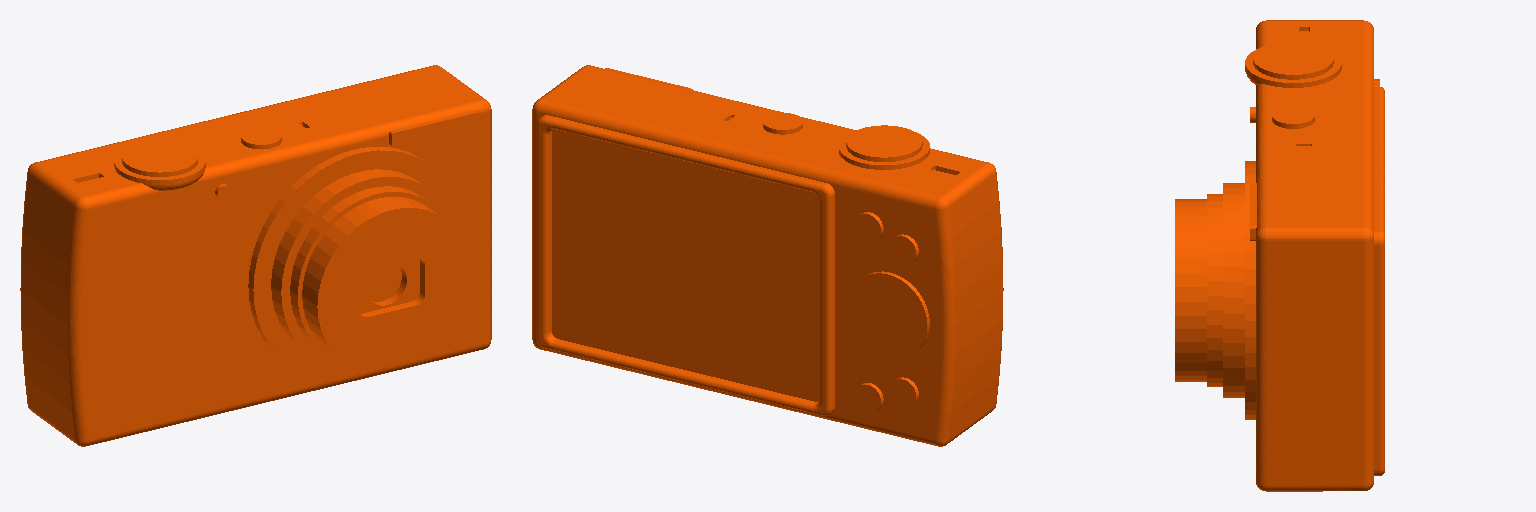
The robot description file, URDF, robot "camera":
<?xml version="1.0" ?>
<robot name="camera">
   <material name="obj_color">
      <color rgba="1.0 0.423529411765 0.0392156862745 1.0"/>
   </material>
   <link name="top">
      <inertial>
         <origin rpy="0.0001932896790447787 0.0005032142569991699 0.0006040671366574025" xyz="0.002662219039778185 0.005287141236461879 -0.001063677143379708"/>
         <mass value="0.4498486265932388"/>
         <inertia ixx="0.00019425525525257" ixy="1.982782546587925e-05" ixz="1.405211004337183e-06" iyy="0.0006031068332749693" iyz="2.46181992297482e-07" izz="0.0005032089841738115"/>
      </inertial>
      <visual>
         <origin rpy="0 0 0" xyz="0 0 0"/>
         <geometry>
            <mesh filename="top_watertight_tiny.stl" scale="1 1 1"/>
         </geometry>
         <material name="obj_color"/>
      </visual>
      <collision>
         <origin rpy="0 0 0" xyz="0 0 0"/>
         <geometry>
            <mesh filename="top_watertight_tiny.obj" scale="1 1 1"/>
         </geometry>
      </collision>
   </link>
   <link name="bottom">
      <inertial>
         <origin rpy="1.633333333194242e-08 1.633333333194243e-08 1.633333333357667e-08" xyz="0.3464080000000008 0.3464080000000008 0.3464080000000008"/>
         <mass value="0.0009800000000000017"/>
         <inertia ixx="1.633333333248717e-08" ixy="5.447480642029219e-19" ixz="5.447480642029219e-19" iyy="1.633333333248717e-08" iyz="5.447480642029219e-19" izz="1.633333333248717e-08"/>
      </inertial>
      <visual>
         <origin rpy="0 0 0" xyz="0 0 0"/>
         <geometry>
            <mesh filename="bottom_watertight_tiny.stl" scale="1 1 1"/>
         </geometry>
         <material name="obj_color"/>
      </visual>
   </link>
   <joint name="rotation" type="revolute">
      <origin xyz="0 0 0"/>
      <axis xyz="0 0 -1"/>
      <parent link="bottom"/>
      <child link="top"/>
      <dynamics damping="1.0" friction="1.0"/>
      <limit effort="0.1" velocity="0.1" lower="0" upper="0.001"/>
   </joint>
</robot>

--- Render facts (derived) ---
3 views of the same robot in one strip: view 1: azimuth 30°, elevation 25°; view 2: azimuth 150°, elevation 25°; view 3: azimuth 270°, elevation 25° (orthographic).
Model camera with 2 links and 1 joints (1 revolute), rooted at bottom, posed all joints at 0.
Links seen in each view (by area): view 1: top; view 2: top; view 3: top.
Boxes of the visible links, box(x1,y1,x2,y2) form: top: box(20, 65, 491, 446); top: box(532, 65, 1003, 446); top: box(1175, 20, 1384, 491).
Bounding box of the posed robot: 0.1155 × 0.047 × 0.0675 m (x, y, z).
1 mesh visuals loaded from 2 distinct referenced files (1 binary STL); not drawn: 1 (reference not matched to a file when rendering).
